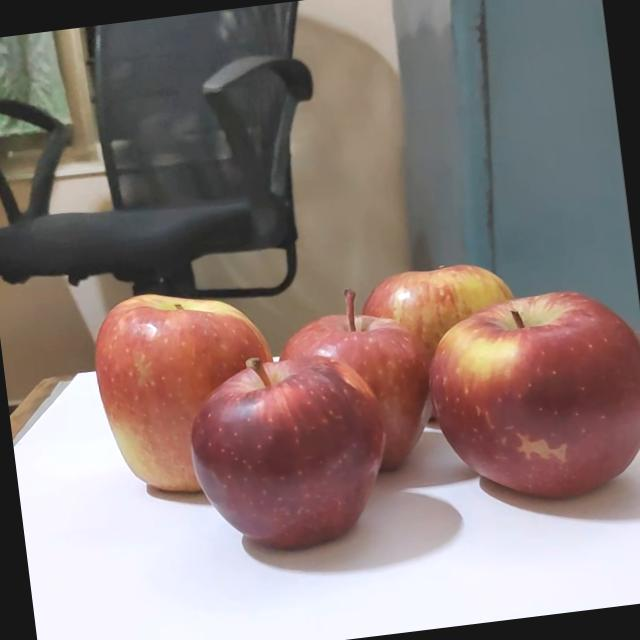apple: (411, 275, 640, 517), (172, 334, 406, 564), (84, 268, 298, 502), (268, 268, 452, 488), (356, 256, 540, 426)
